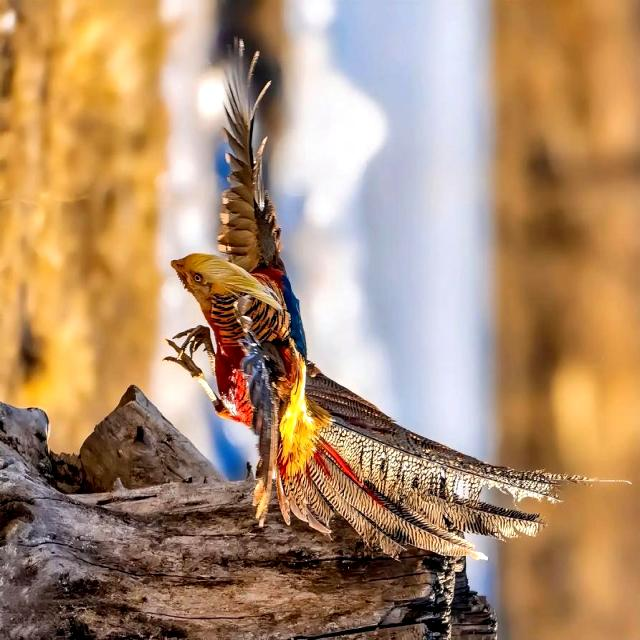Chrysolophus pictus feather: (282, 362, 636, 561)
